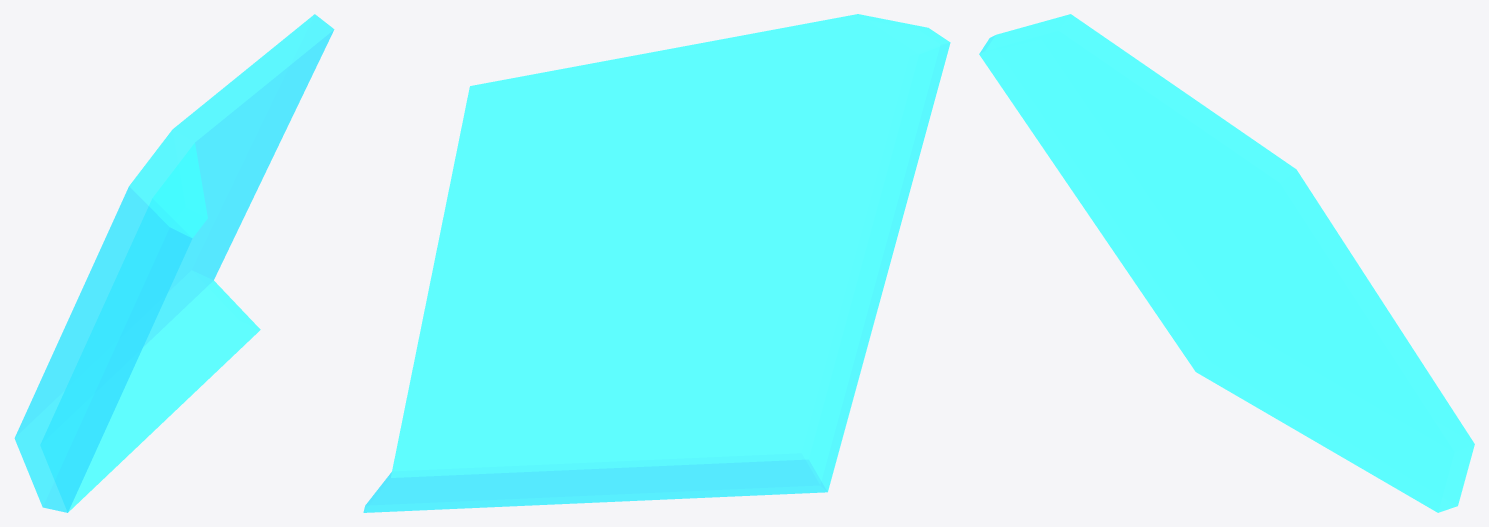
File: Vaccine3_Shard4.fbx
3 renders of one model, left to right at view 1: azimuth 30°, elevation 25°; view 2: azimuth 150°, elevation 25°; view 3: azimuth 270°, elevation 25°, orthographic. The views are drawn at different scales.
Visible parts, largest first — view 1: barrier_shard.004; view 2: barrier_shard.004; view 3: barrier_shard.004.
Boxes of the visible parts, x1,y1,x2,y2 form: barrier_shard.004: (14,14,334,512); barrier_shard.004: (363,14,950,512); barrier_shard.004: (979,14,1474,512).
Bounding box in the file's own units: 32.23 × 37.34 × 45.11.
